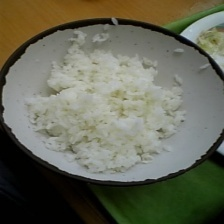rice: (20, 12, 213, 178)
